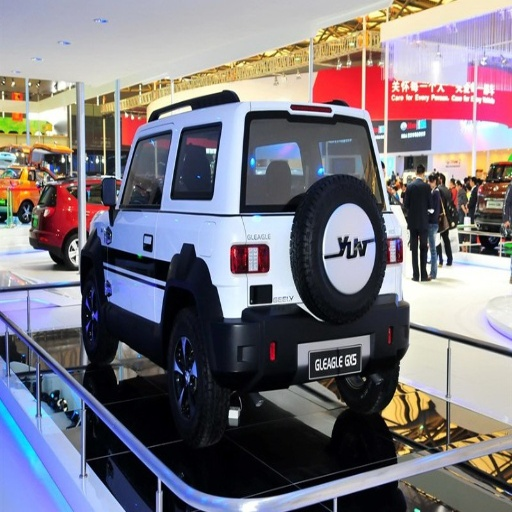back_bumper: (216, 309, 309, 385)
trunk: (150, 172, 313, 314), (299, 324, 360, 373)
